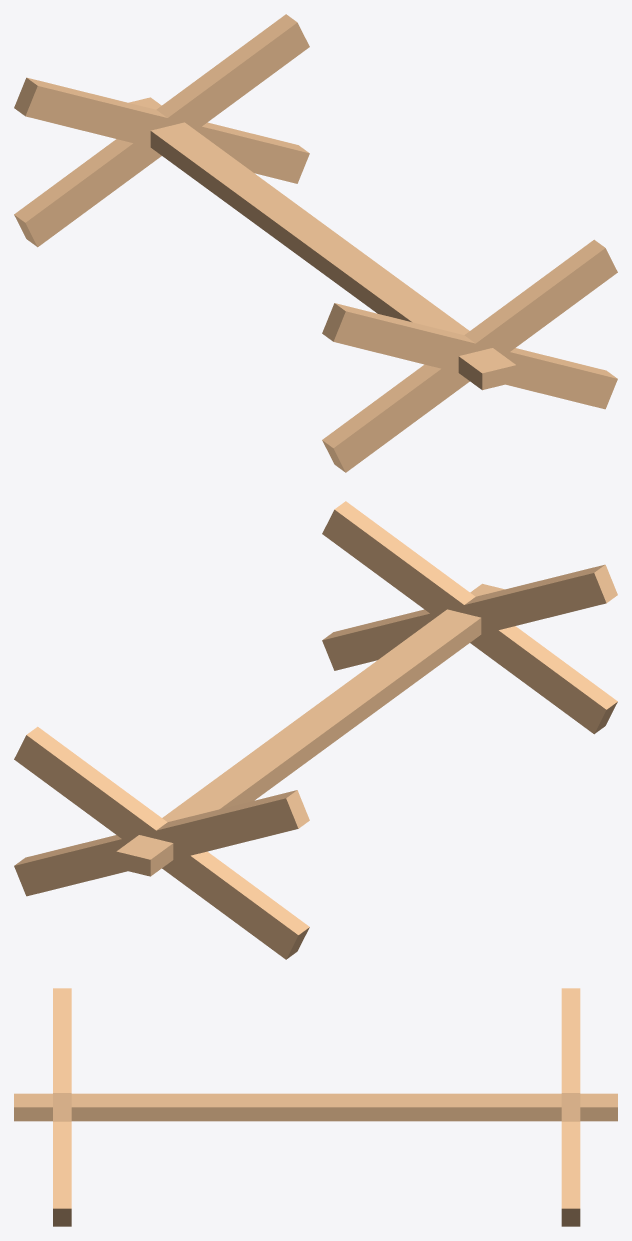
The picture shows the model from 3 angles, top to bottom: view 1: azimuth 30°, elevation 25°; view 2: azimuth 150°, elevation 25°; view 3: azimuth 270°, elevation 25°; orthographic projection. The views are drawn at different scales.
Parts seen in each view (by area): view 1: bedrollFrame; view 2: bedrollFrame; view 3: bedrollFrame.
Boxes of the visible parts, box(x1,y1,x2,y2) form: bedrollFrame: box(14, 14, 617, 472); bedrollFrame: box(14, 501, 617, 959); bedrollFrame: box(14, 988, 617, 1226).
Bounding box in the file's own units: 0.2722 × 0.1477 × 0.6063.
